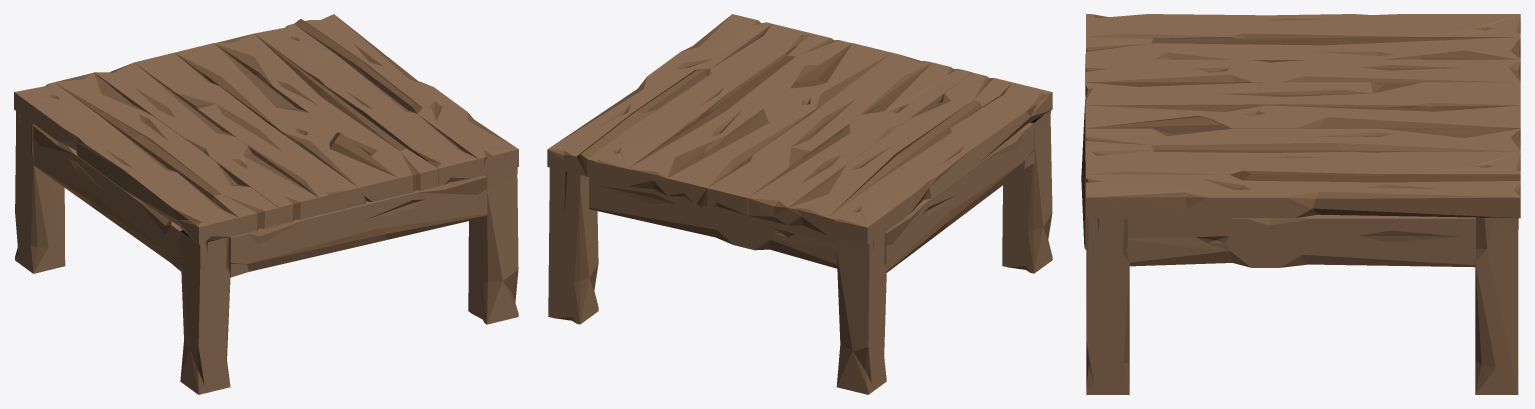
The model's file is mesh_plank_platform.fbx.
3 renders of one model, left to right at view 1: azimuth 30°, elevation 25°; view 2: azimuth 150°, elevation 25°; view 3: azimuth 270°, elevation 25°, orthographic. The views are drawn at different scales.
Parts seen in each view (by area): view 1: mesh_plank_platform; view 2: mesh_plank_platform; view 3: mesh_plank_platform.
Boxes of the visible parts, left/top/right/bottom form: mesh_plank_platform: left=14, top=14, right=518, bottom=394; mesh_plank_platform: left=547, top=14, right=1052, bottom=394; mesh_plank_platform: left=1081, top=14, right=1520, bottom=394.
Bounding box in the file's own units: 2.02 × 1.02 × 2.02.
